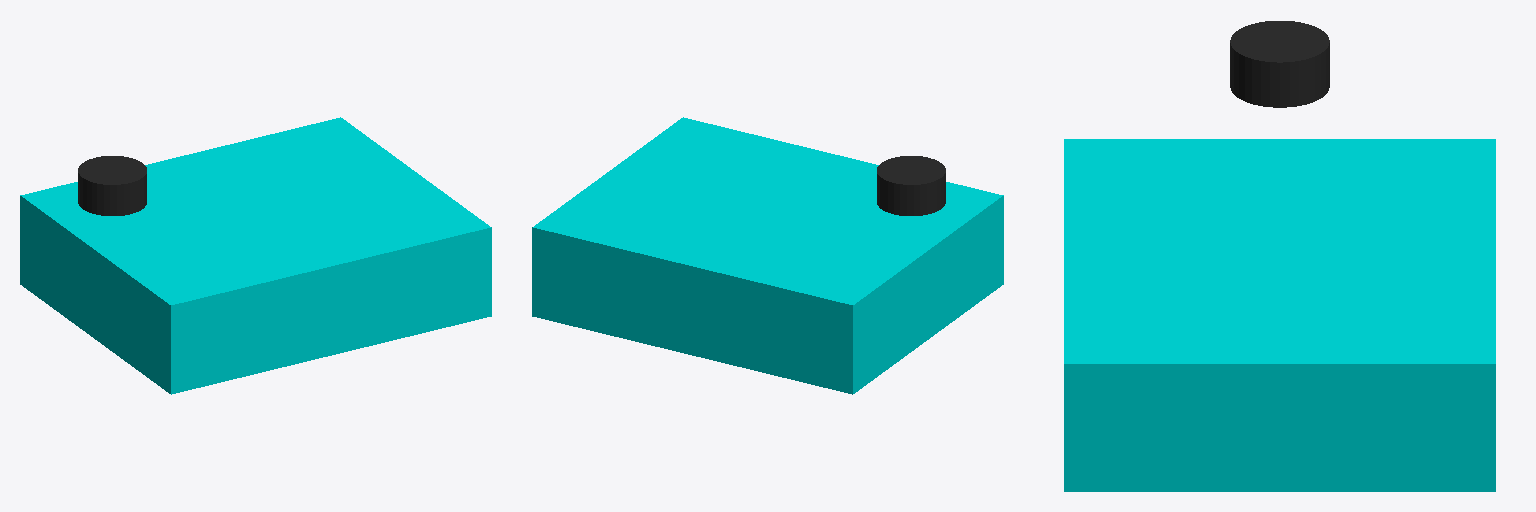
URDF robot description (scuttle):
<?xml version="1.0"?>
	<robot name="scuttle">
		<link name="base_link">
		<visual>
		    <origin xyz="0 0 0.0" rpy="0 0 0"/>
			<geometry>
				<box size="0.32 0.26 0.085"/>
			</geometry>
			<material name="Cyan1">
	       		<color rgba="0 0.9 0.9 1.0"/>
	     	</material>
		</visual>	
		</link>		
		<link name="laser">
<visual>
		    <origin xyz="0 0 0" rpy="0 0 0"/>
			<geometry>
				<cylinder radius="0.03" length="0.03"/>
			</geometry>
			<material name="Black1">
	       		<color rgba="0.2 0.2 0.2 1.0"/>
	     	</material>
		</visual>	
		</link>

		<joint name="base_link_to_laser" type="fixed">
			<parent link="base_link"/>
			<child link="laser"/>
			<origin xyz="-0.143 0 0.1" rpy="0.0 0.0 0.0"/>
			<axis xyz="0 0 0"/>
		</joint>	
		
	</robot>

--- What the picture shows (computed from the rendered views, not written in the file) ---
3 views of the same robot in one strip: view 1: azimuth 30°, elevation 25°; view 2: azimuth 150°, elevation 25°; view 3: azimuth 270°, elevation 25° (orthographic).
Robot: scuttle — 2 links, 1 joints (1 fixed); root link base_link; default pose: every joint at zero.
Links seen in each view (by area): view 1: base_link, laser; view 2: base_link, laser; view 3: base_link, laser.
Link boxes in pixels (box(x1,y1,x2,y2)): base_link: box(20, 117, 491, 394); laser: box(78, 156, 146, 215); base_link: box(532, 117, 1003, 394); laser: box(877, 156, 945, 215); base_link: box(1064, 139, 1495, 491); laser: box(1230, 21, 1329, 107).
Size in the robot's own frame: 0.333 by 0.26 by 0.1575 metres.
Geometry: primitives only (box / cylinder / sphere), no mesh files.